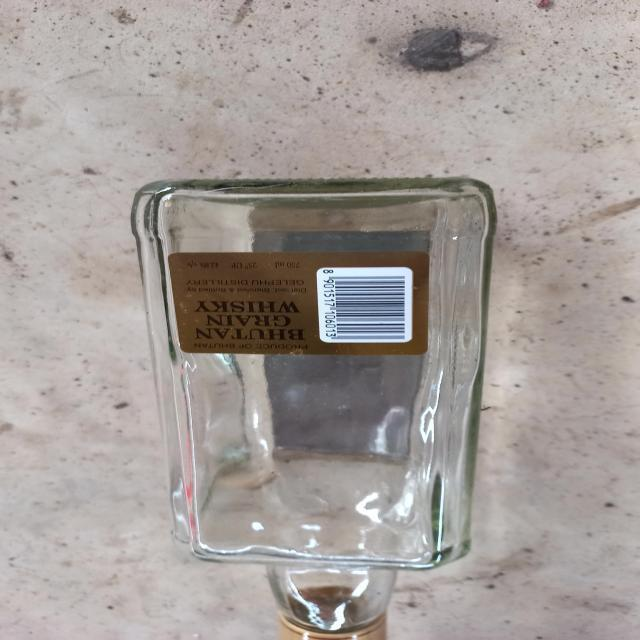Glass: (130, 178, 498, 640)
